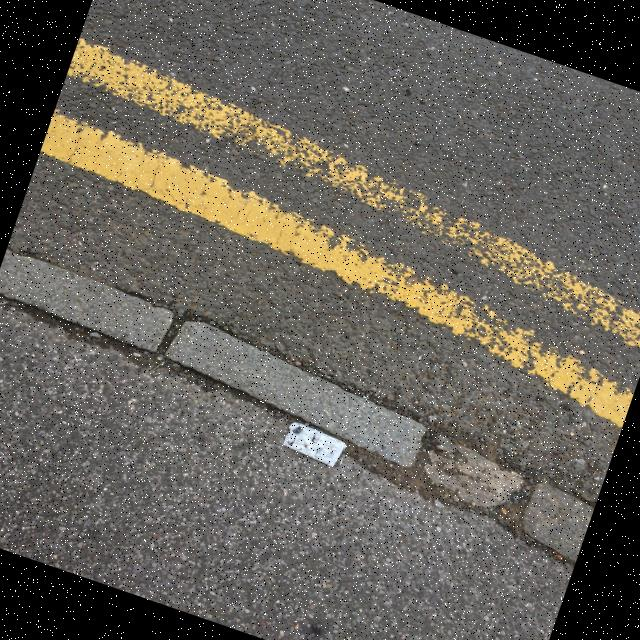Aluminium blister pack: (283, 423, 345, 467)
